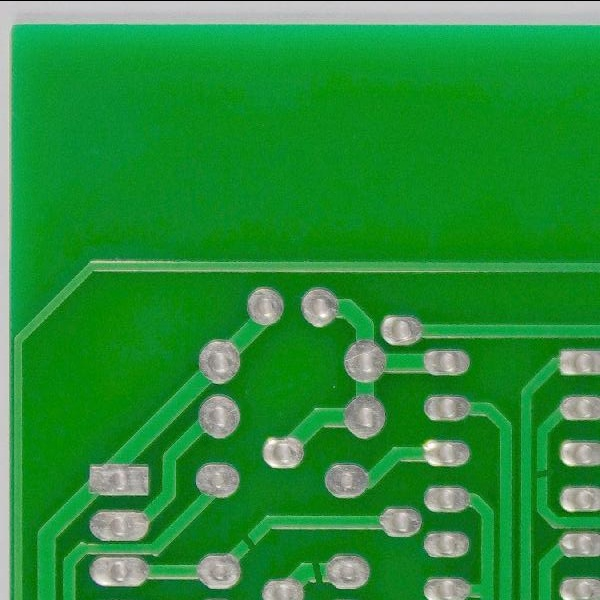open_circuit: (237, 528, 260, 557), (307, 556, 326, 590), (534, 465, 555, 486)
